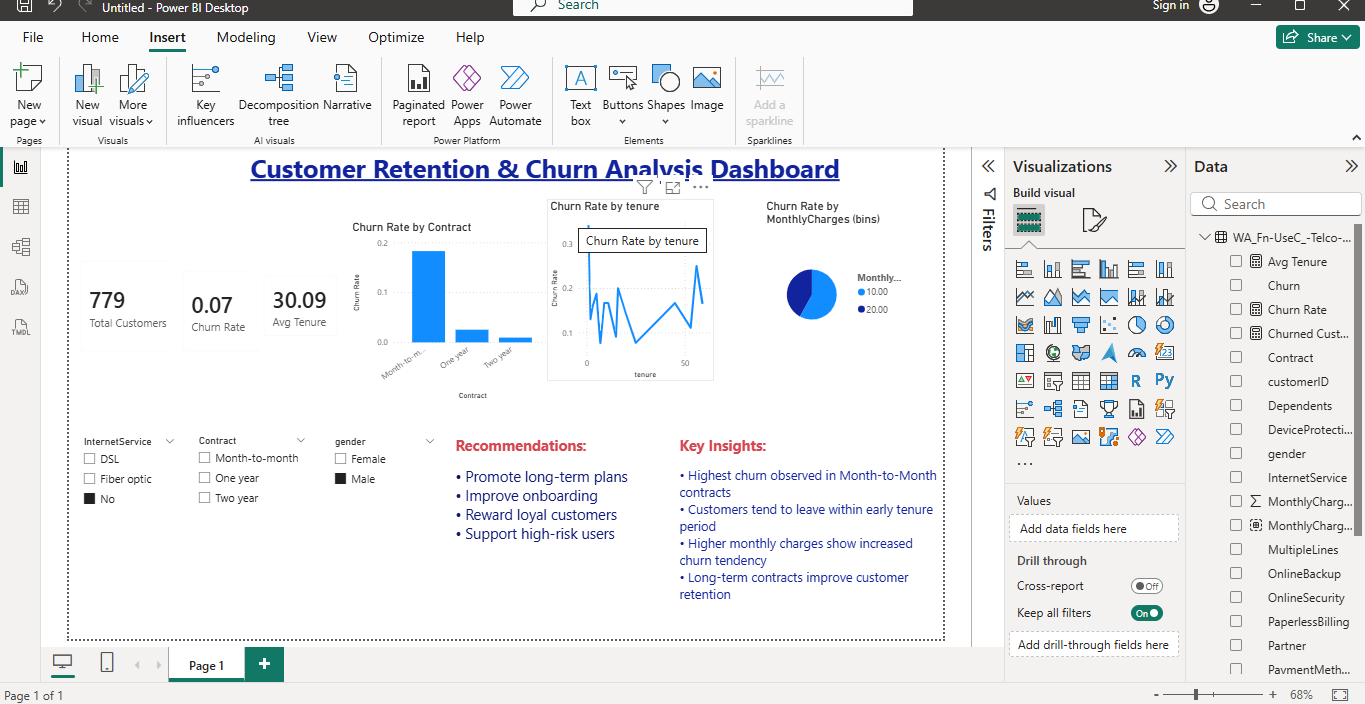

The dashboard page shown, as its layout file describes it:
{"tool":"powerbi","page":{"name":"Page 1","canvas":[1280,720],"ordinal":0},"visuals":[{"type":"textbox","box":[260.4,0,897,75.6],"z":0},{"type":"cardVisual","fields":{"Data":["WA_Fn-UseC_-Telco-Customer-Churn.Total Customers"]},"box":[0,149.5,173,168],"z":1000},{"type":"cardVisual","fields":{"Data":["WA_Fn-UseC_-Telco-Customer-Churn.Churn Rate"]},"box":[149.5,164.6,146.1,152.9],"z":2000},{"type":"cardVisual","fields":{"Data":["WA_Fn-UseC_-Telco-Customer-Churn.Avg Tenure"]},"box":[267.1,171.3,142.8,122.6],"z":3000},{"type":"columnChart","fields":{"Category":["WA_Fn-UseC_-Telco-Customer-Churn.Contract"],"Y":["WA_Fn-UseC_-Telco-Customer-Churn.Churn Rate"]},"box":[409.9,107.5,300.7,267.1],"z":4000},{"type":"lineChart","fields":{"Category":["WA_Fn-UseC_-Telco-Customer-Churn.tenure"],"Y":["WA_Fn-UseC_-Telco-Customer-Churn.Churn Rate"]},"box":[698.8,75.6,245.2,267.1],"z":5000},{"type":"pieChart","fields":{"Category":["WA_Fn-UseC_-Telco-Customer-Churn.MonthlyCharges (bins)"],"Y":["WA_Fn-UseC_-Telco-Customer-Churn.Churn Rate"]},"box":[1016.3,75.6,215,241.9],"z":6000},{"type":"slicer","fields":{"Values":["WA_Fn-UseC_-Telco-Customer-Churn.Contract"]},"box":[176.4,416.6,181.4,149.5],"z":7000},{"type":"slicer","fields":{"Values":["WA_Fn-UseC_-Telco-Customer-Churn.gender"]},"box":[376.3,418.3,171.3,117.6],"z":8000},{"type":"slicer","fields":{"Values":["WA_Fn-UseC_-Telco-Customer-Churn.InternetService"]},"box":[8.4,418.3,157.9,149.5],"z":9000},{"type":"textbox","box":[888.6,416.6,391.4,263.7],"z":10000},{"type":"textbox","box":[561,416.6,287.2,173],"z":11000}]}

Visuals, with their boxes on the page's 1280x720 design canvas (x1, y1, x2, y2). These are canvas units, not pixel positions in the 1365x704 screenshot, which may show the page scaled, cropped or inside an application window:
textbox: rect(260, 0, 1157, 76)
cardVisual - WA_Fn-UseC_-Telco-Customer-Churn.Total Customers: rect(0, 150, 173, 318)
cardVisual - WA_Fn-UseC_-Telco-Customer-Churn.Churn Rate: rect(150, 165, 296, 318)
cardVisual - WA_Fn-UseC_-Telco-Customer-Churn.Avg Tenure: rect(267, 171, 410, 294)
columnChart - WA_Fn-UseC_-Telco-Customer-Churn.Contract x WA_Fn-UseC_-Telco-Customer-Churn.Churn Rate: rect(410, 108, 711, 375)
lineChart - WA_Fn-UseC_-Telco-Customer-Churn.tenure x WA_Fn-UseC_-Telco-Customer-Churn.Churn Rate: rect(699, 76, 944, 343)
pieChart - WA_Fn-UseC_-Telco-Customer-Churn.MonthlyCharges (bins) x WA_Fn-UseC_-Telco-Customer-Churn.Churn Rate: rect(1016, 76, 1231, 318)
slicer - WA_Fn-UseC_-Telco-Customer-Churn.Contract: rect(176, 417, 358, 566)
slicer - WA_Fn-UseC_-Telco-Customer-Churn.gender: rect(376, 418, 548, 536)
slicer - WA_Fn-UseC_-Telco-Customer-Churn.InternetService: rect(8, 418, 166, 568)
textbox: rect(889, 417, 1280, 680)
textbox: rect(561, 417, 848, 590)
